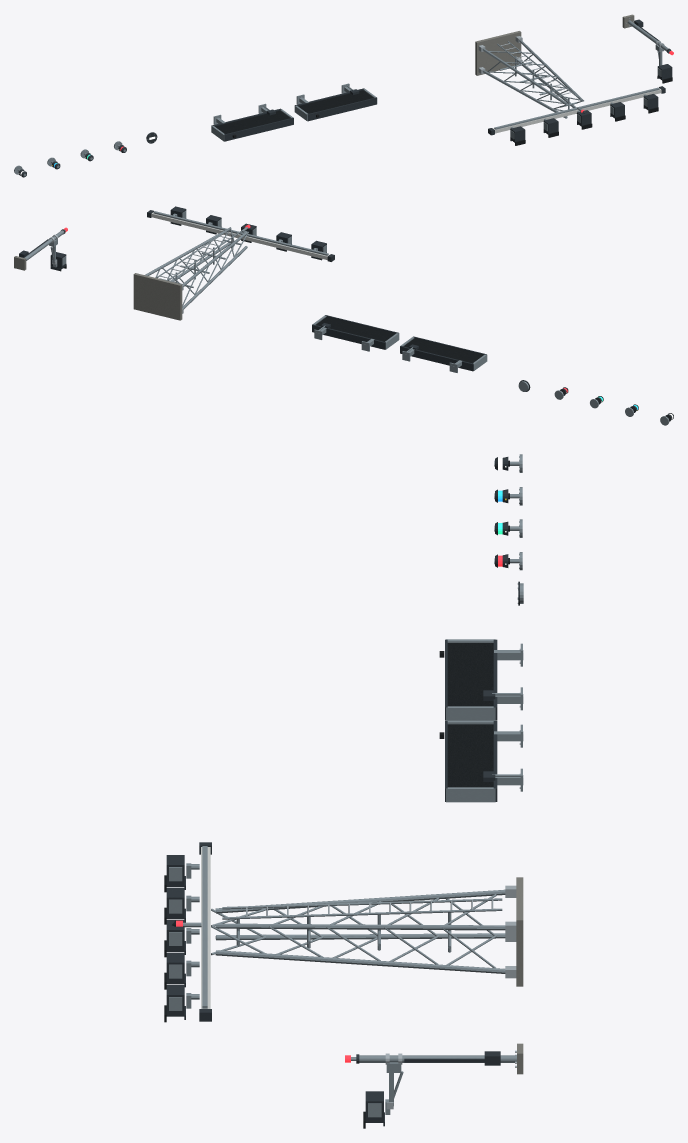
Rendered from PZ_Airport_Runway_Lights_Full_Kit.glb.
3 views of the same model, one above another, from view 1: azimuth 30°, elevation 25°; view 2: azimuth 150°, elevation 25°; view 3: azimuth 270°, elevation 25° (orthographic). The views are drawn at different scales.
Visible parts, largest first — view 1: PZ_Approach_Light_Tower_5x__TowerFoot_Center, PZ_Approach_Light_Tower_5x, PZ_Taxiway_Direction_Sign_A1__Sign_Enclosure, PZ_Runway_Hold_Sign_09_27__Sign_Enclosure, PZ_Approach_Light_Tower_5x__LightBank_Crossbar, PZ_Runway_Hold_Sign_09_27__TopWeatherLip, PZ_Taxiway_Direction_Sign_A1__TopWeatherLip, PZ_Approach_Light_Tower_5x__Crossbar_Core, PZ_Approach_Light_Tower_5x__LatticeLeg_-1_-1; view 2: PZ_Approach_Light_Tower_5x__TowerFoot_Center, PZ_Approach_Light_Tower_5x, PZ_Approach_Light_Tower_5x__LightBank_Crossbar, PZ_Runway_Hold_Sign_09_27__Sign_Enclosure, PZ_Taxiway_Direction_Sign_A1__Sign_Enclosure, PZ_Approach_Light_Tower_5x__Crossbar_Core, PZ_Taxiway_Direction_Sign_A1__LowerFrameLip, PZ_Runway_Hold_Sign_09_27__LowerFrameLip; view 3: PZ_Approach_Light_Tower_5x, PZ_Taxiway_Direction_Sign_A1__Sign_Enclosure, PZ_Runway_Hold_Sign_09_27__Sign_Enclosure, PZ_Approach_Light_Tower_5x__LatticeLeg_1_-1, PZ_Approach_Light_Tower_5x__LatticeLeg_-1_-1, PZ_Approach_Light_Tower_5x__Crossbar_Core, PZ_Approach_Light_Tower_5x__LightBank_Crossbar.
Boxes of the visible parts, bbox=[...] form: PZ_Approach_Light_Tower_5x__TowerFoot_Center: bbox=[475, 31, 521, 75]; PZ_Approach_Light_Tower_5x: bbox=[478, 36, 646, 128]; PZ_Taxiway_Direction_Sign_A1__Sign_Enclosure: bbox=[215, 110, 290, 134]; PZ_Runway_Hold_Sign_09_27__Sign_Enclosure: bbox=[298, 90, 373, 113]; PZ_Approach_Light_Tower_5x__LightBank_Crossbar: bbox=[493, 88, 661, 133]; PZ_Runway_Hold_Sign_09_27__TopWeatherLip: bbox=[307, 97, 376, 121]; PZ_Taxiway_Direction_Sign_A1__TopWeatherLip: bbox=[224, 118, 293, 141]; PZ_Approach_Light_Tower_5x__Crossbar_Core: bbox=[494, 87, 659, 129]; PZ_Approach_Light_Tower_5x__LatticeLeg_-1_-1: bbox=[482, 70, 567, 118]; PZ_Approach_Light_Tower_5x__TowerFoot_Center: bbox=[133, 273, 182, 320]; PZ_Approach_Light_Tower_5x: bbox=[145, 214, 315, 290]; PZ_Approach_Light_Tower_5x__LightBank_Crossbar: bbox=[151, 212, 329, 259]; PZ_Runway_Hold_Sign_09_27__Sign_Enclosure: bbox=[316, 317, 395, 341]; PZ_Taxiway_Direction_Sign_A1__Sign_Enclosure: bbox=[403, 338, 483, 363]; PZ_Approach_Light_Tower_5x__Crossbar_Core: bbox=[153, 211, 328, 255]; PZ_Taxiway_Direction_Sign_A1__LowerFrameLip: bbox=[400, 346, 473, 371]; PZ_Runway_Hold_Sign_09_27__LowerFrameLip: bbox=[312, 324, 385, 349]; PZ_Approach_Light_Tower_5x: bbox=[190, 864, 516, 999]; PZ_Taxiway_Direction_Sign_A1__Sign_Enclosure: bbox=[447, 643, 493, 706]; PZ_Runway_Hold_Sign_09_27__Sign_Enclosure: bbox=[447, 724, 493, 787]; PZ_Approach_Light_Tower_5x__LatticeLeg_1_-1: bbox=[215, 950, 505, 973]; PZ_Approach_Light_Tower_5x__LatticeLeg_-1_-1: bbox=[215, 933, 505, 940]; PZ_Approach_Light_Tower_5x__Crossbar_Core: bbox=[202, 846, 207, 1008]; PZ_Approach_Light_Tower_5x__LightBank_Crossbar: bbox=[201, 847, 210, 1008].
Size of the model in its own units: 22.35 by 1.68 by 5.61.
3 materials, 3 textured.
